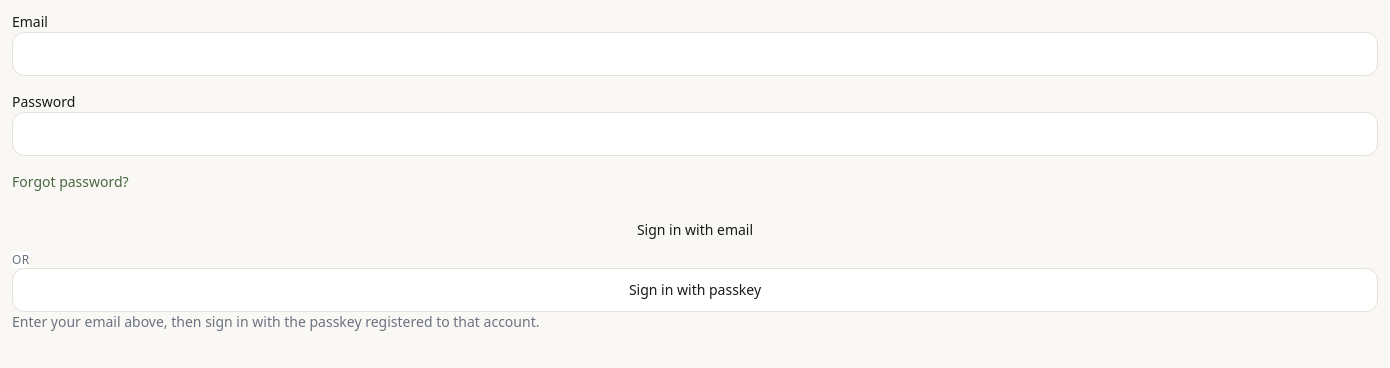
Test: login page passkey sign-in › requires email before passkey sign-in when no saved hint exists
The image size is (1390, 368).
Click the button "Sign in with passkey". click: (695, 290)
box: [12,268,1378,312]
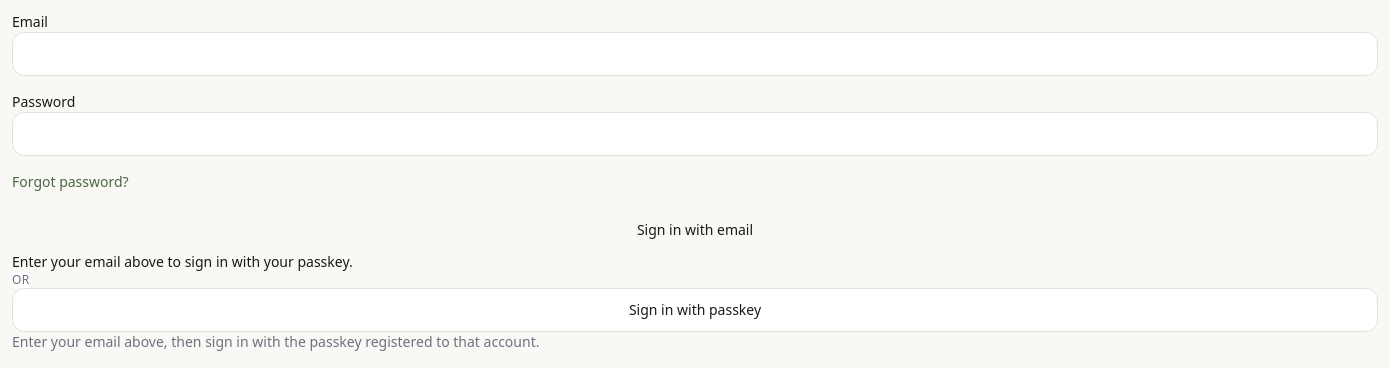
Expected: the message reads "Enter your email above to sign in with your passkey.", [12,252,353,271]
